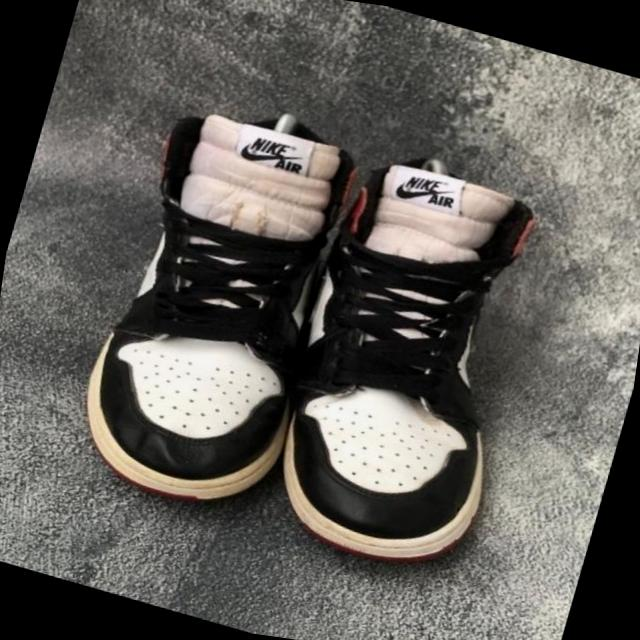nike_fake_jordan: (238, 130, 578, 596), (68, 77, 370, 529)
